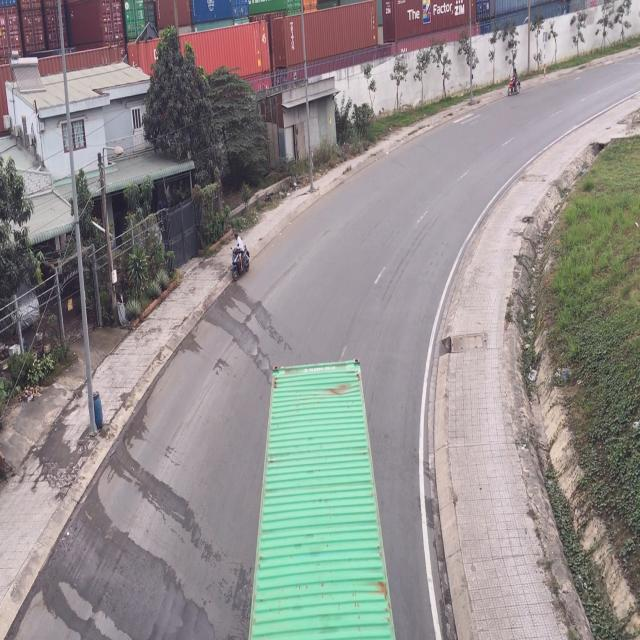motorbike: (228, 232, 248, 282), (507, 65, 522, 98)
truck: (248, 364, 394, 640)
